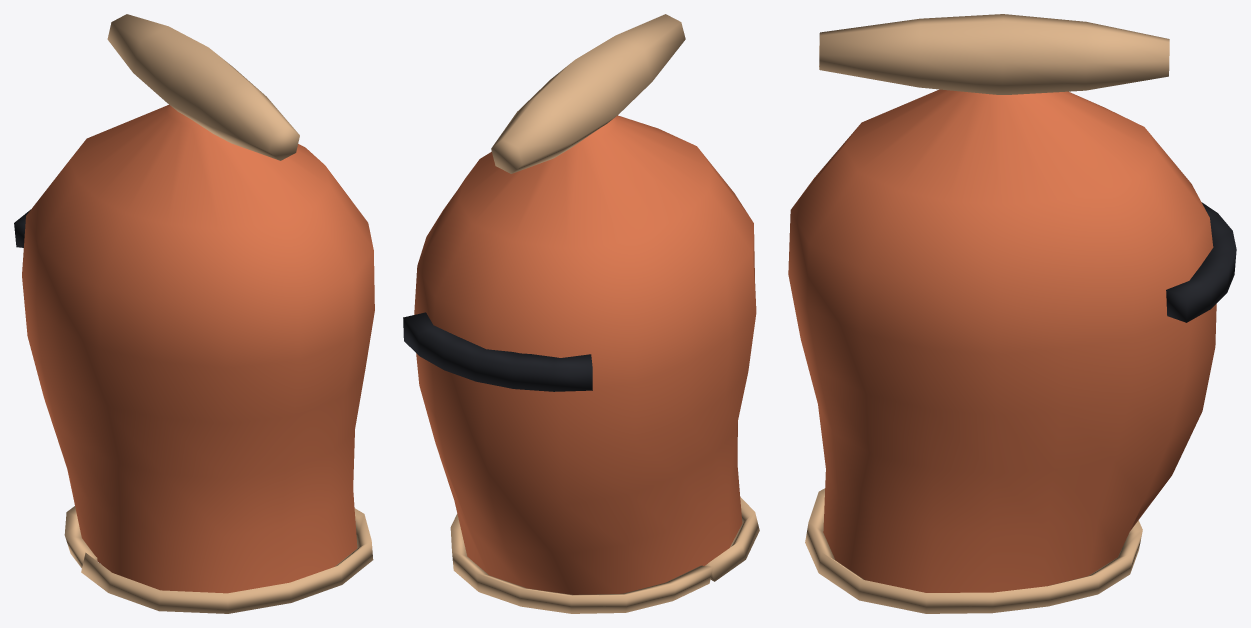
Rendered from palladium_helmet.glb.
3 views of the same model, side by side, from view 1: azimuth 30°, elevation 25°; view 2: azimuth 150°, elevation 25°; view 3: azimuth 270°, elevation 25° (orthographic). The views are drawn at different scales.
Visible parts, largest first — view 1: palladium_helmet_head; view 2: palladium_helmet_head; view 3: palladium_helmet_head.
Part boxes in pixels (x1,y1,x2,y2): palladium_helmet_head: (14,14,374,613); palladium_helmet_head: (403,14,759,613); palladium_helmet_head: (788,14,1236,613).
Size of the model in its own units: 0.215 by 0.3535 by 0.2691.
